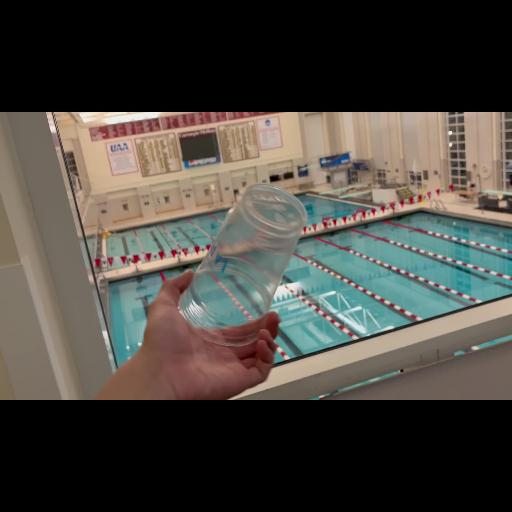lp_plastic_cup: (147, 179, 311, 351)
